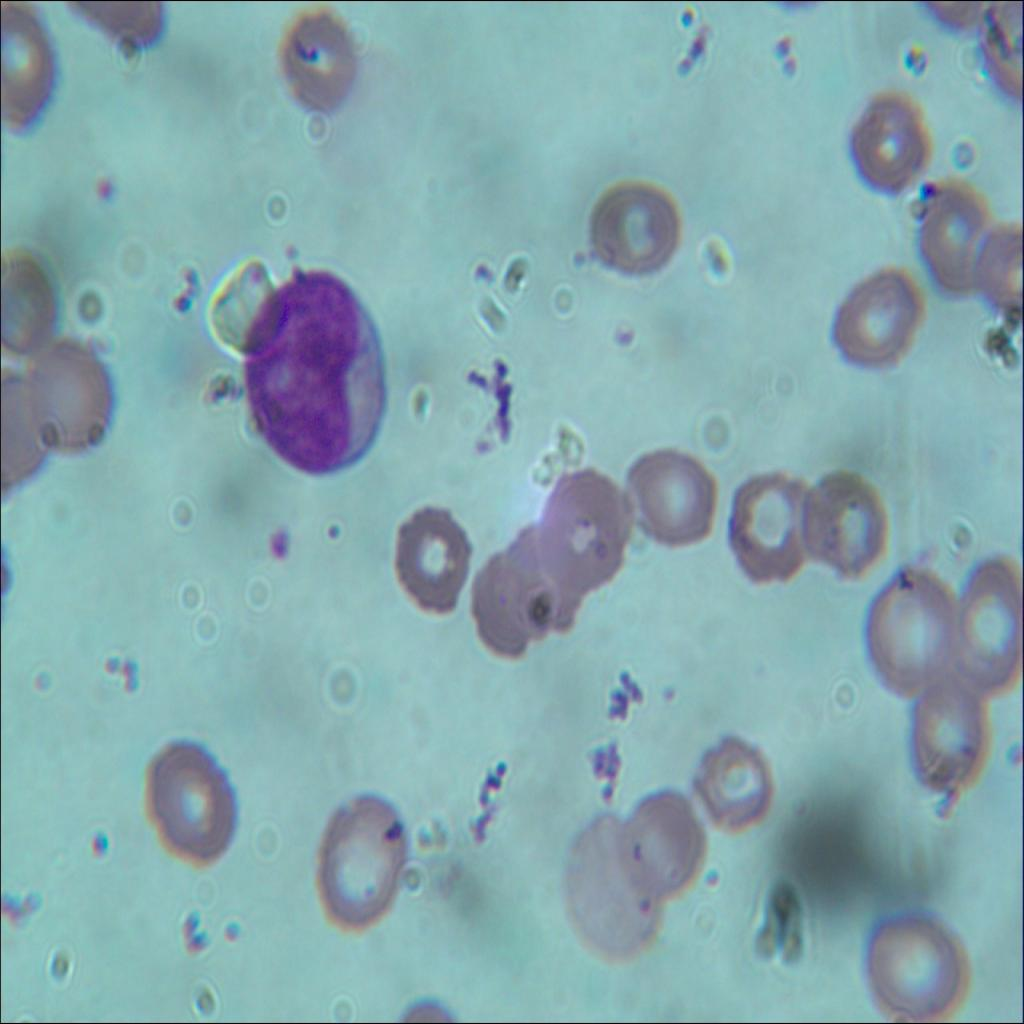Eritrosit: (551, 817, 663, 961), (301, 792, 410, 938), (141, 739, 243, 872), (858, 911, 970, 1023), (538, 468, 630, 592), (721, 464, 811, 589), (862, 571, 954, 691), (22, 342, 116, 459), (798, 462, 888, 581), (826, 268, 924, 375), (618, 444, 716, 550), (953, 545, 1023, 692), (909, 668, 989, 794), (841, 91, 936, 191), (384, 502, 468, 614), (503, 524, 588, 631), (588, 179, 682, 275), (276, 8, 358, 118), (624, 788, 706, 898), (691, 732, 776, 834), (0, 0, 61, 134), (919, 178, 984, 298), (0, 252, 66, 365), (468, 555, 539, 658), (964, 218, 1023, 312)
Limfoblast: (238, 266, 388, 479)
Platelet: (80, 815, 114, 864), (263, 528, 296, 569), (464, 257, 496, 294), (888, 559, 918, 598), (216, 915, 242, 959), (913, 170, 944, 204), (656, 674, 684, 711), (376, 811, 401, 852), (279, 232, 306, 268), (893, 35, 919, 72), (316, 518, 346, 548), (1004, 728, 1023, 774), (778, 48, 800, 81), (702, 859, 720, 898), (670, 0, 694, 29), (771, 26, 794, 56), (94, 170, 115, 202), (571, 236, 589, 269)
